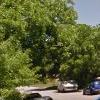Tree: (18, 4, 100, 77)
